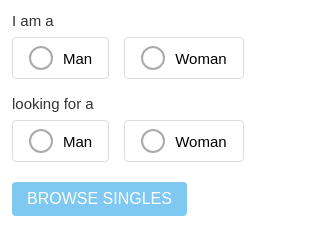
Test: SeekingMatchForm › should enable submit button when both selections are made
Note: Select "I am a Man"
Click the button "Man". click: [61, 58]
box: [12, 37, 109, 79]
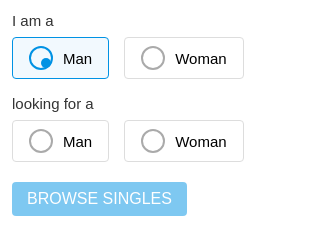
Note: Select "looking for a Woman"
Click the button "Woman". click: [184, 141]
box: [124, 120, 244, 162]
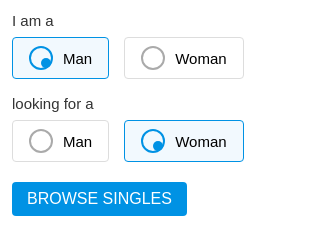
Now the button "Browse Singles" is enabled, box [12, 182, 187, 216]
